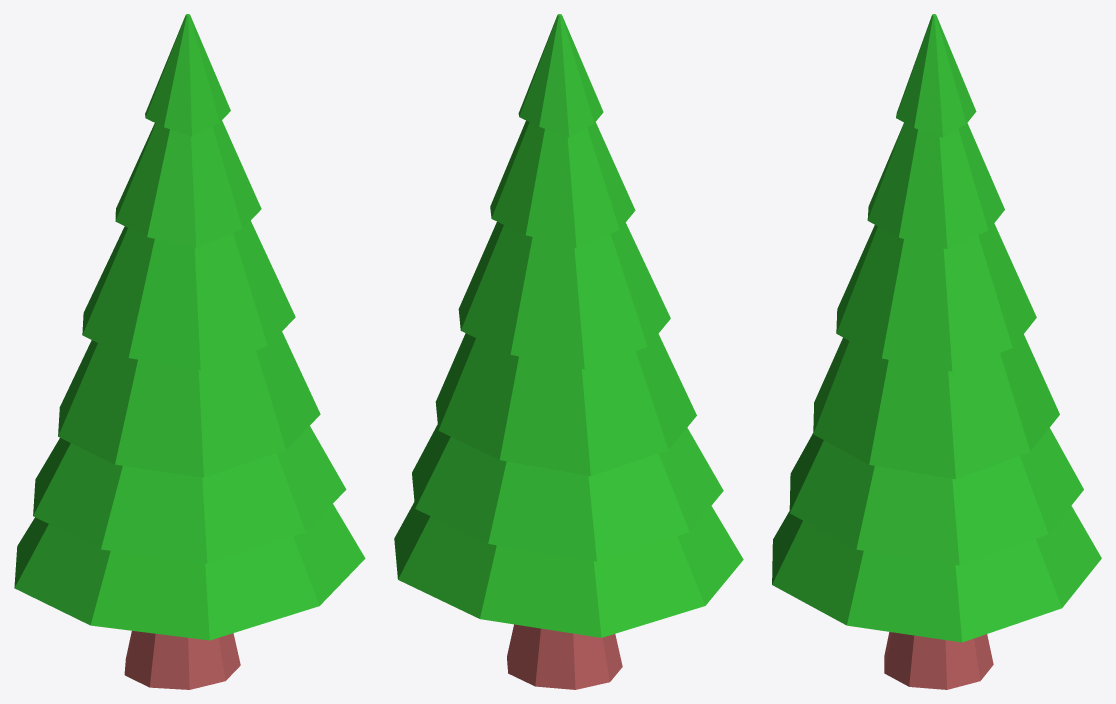
Rendered from lowpolytree.fbx.
3 views of the same model, side by side, from view 1: azimuth 30°, elevation 25°; view 2: azimuth 150°, elevation 25°; view 3: azimuth 270°, elevation 25° (orthographic).
Parts seen in each view (by area): view 1: Cylinder; view 2: Cylinder; view 3: Cylinder.
Part boxes in pixels (x1,y1,x2,y2): Cylinder: (14,14,365,689); Cylinder: (394,14,743,689); Cylinder: (772,14,1101,689).
Bounding box in the file's own units: 56.12 × 112 × 51.31.
